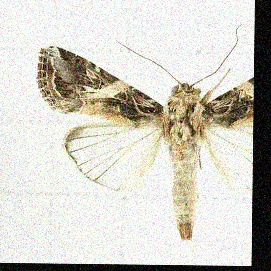Spodoptera litura: (34, 21, 252, 240)
